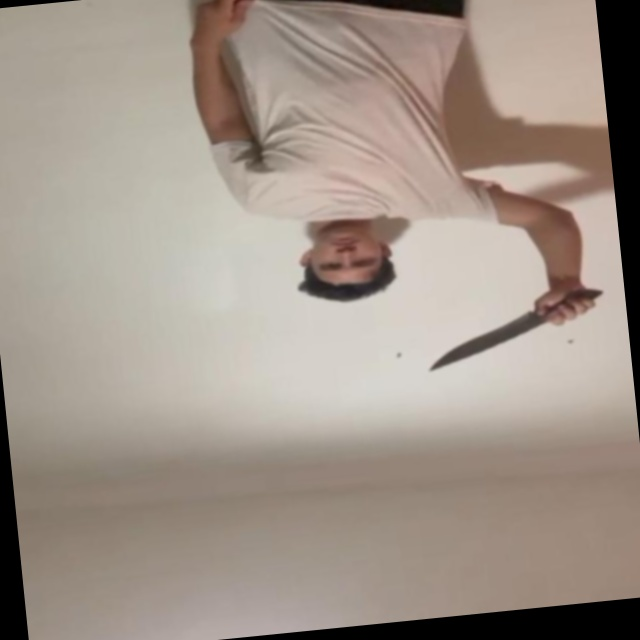Sharp-Object: (422, 317, 542, 372)
